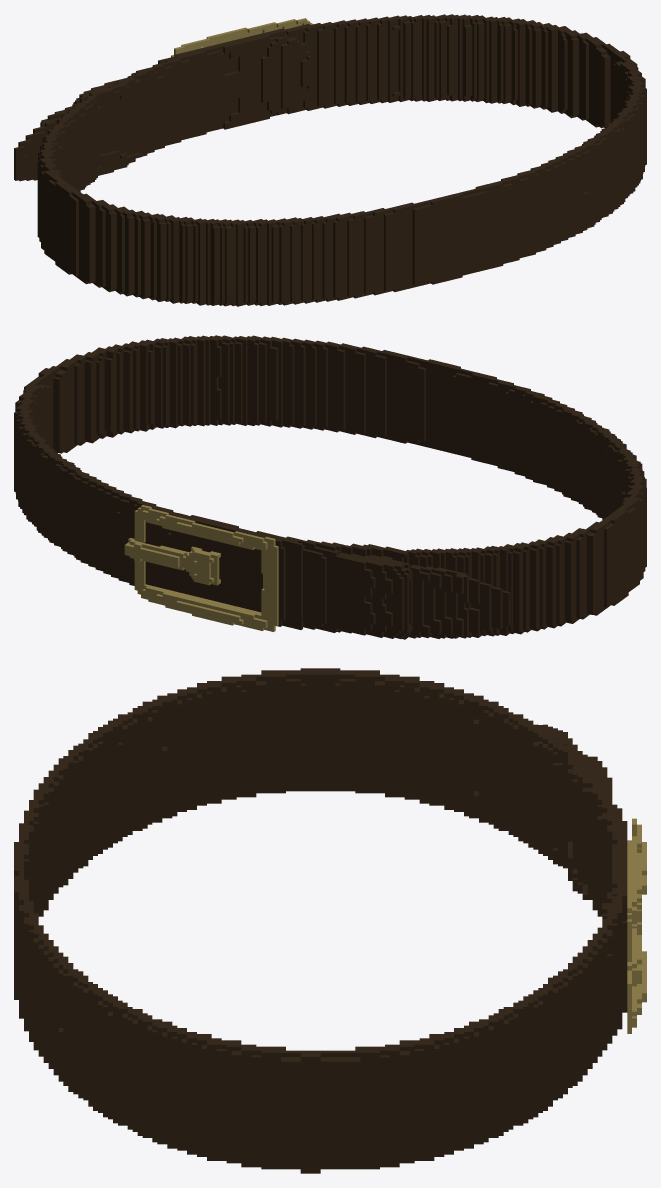
The model's file is LeatherBelt.obj.
3 renders of one model, top to bottom at view 1: azimuth 30°, elevation 25°; view 2: azimuth 150°, elevation 25°; view 3: azimuth 270°, elevation 25°, orthographic. The views are drawn at different scales.
Bounding box in the file's own units: 18.6 × 2.8 × 12.8.
1 material, 1 textured.
